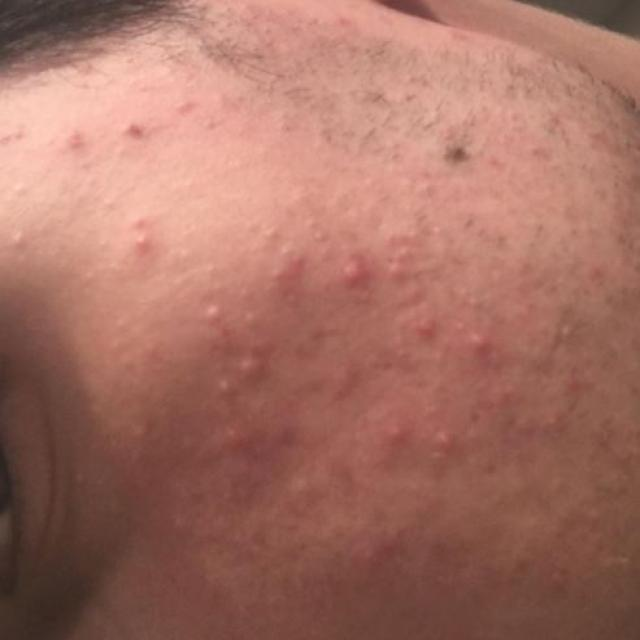fungal: (180, 222, 526, 576)
